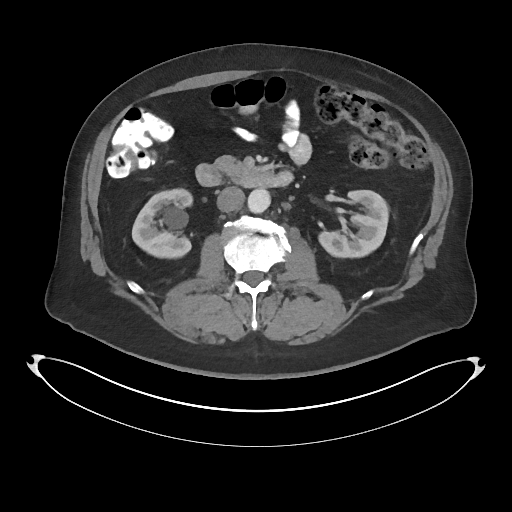Lesion: (161, 203, 191, 232)
